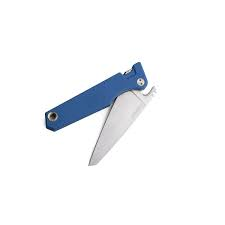knife: (37, 49, 163, 172)
